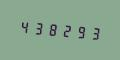eight: (46, 18, 59, 39)
four: (17, 16, 30, 37)
nine: (74, 21, 87, 42)
three: (31, 17, 44, 38), (88, 22, 101, 43)
two: (60, 20, 73, 41)
